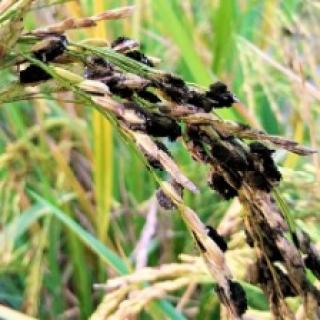Gosong-Palsu: (187, 126, 256, 199), (260, 220, 319, 301), (161, 77, 233, 111), (100, 71, 159, 100), (33, 34, 66, 61), (20, 64, 50, 83)
